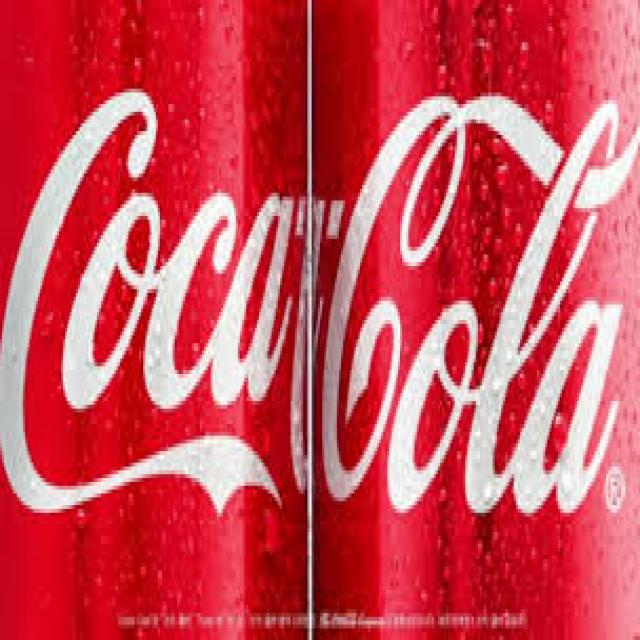Coca-Cola: (309, 0, 640, 636), (0, 0, 311, 640)
